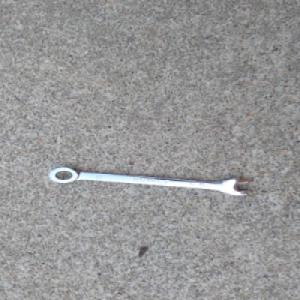Wrench: (47, 166, 252, 196)
